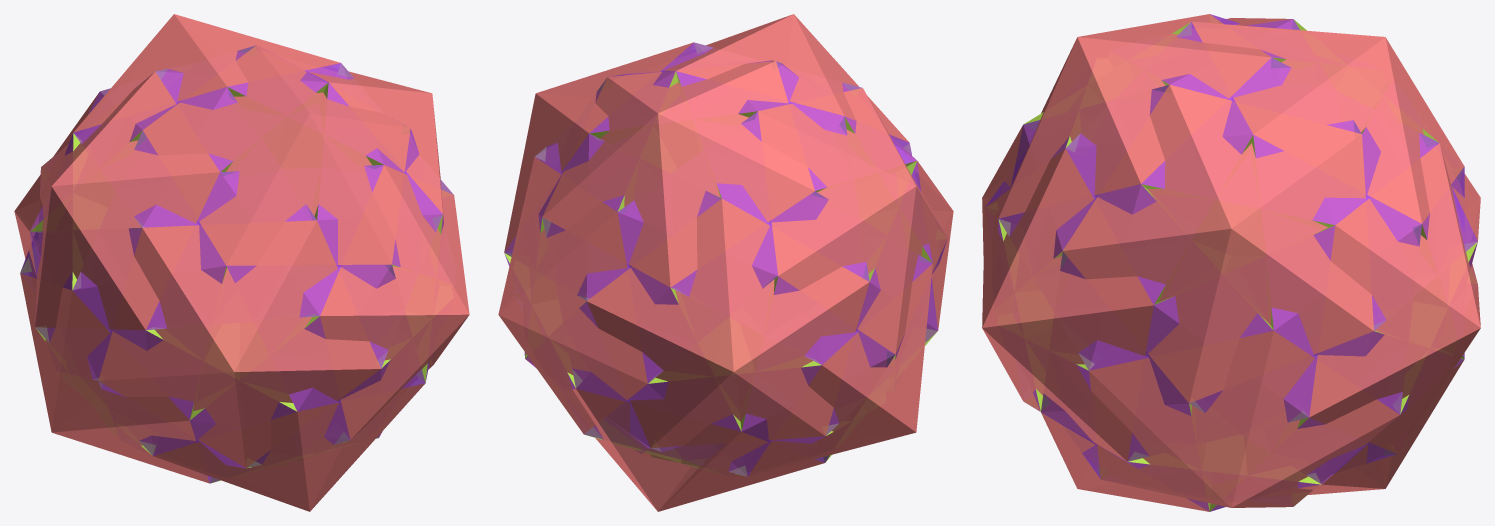
File: 51_Dodekaugmentedexcavated_Sd.obj
3 views of the same model, side by side, from view 1: azimuth 30°, elevation 25°; view 2: azimuth 150°, elevation 25°; view 3: azimuth 270°, elevation 25° (orthographic). The views are drawn at different scales.
Size of the model in its own units: 2.51 by 2.51 by 2.51.
